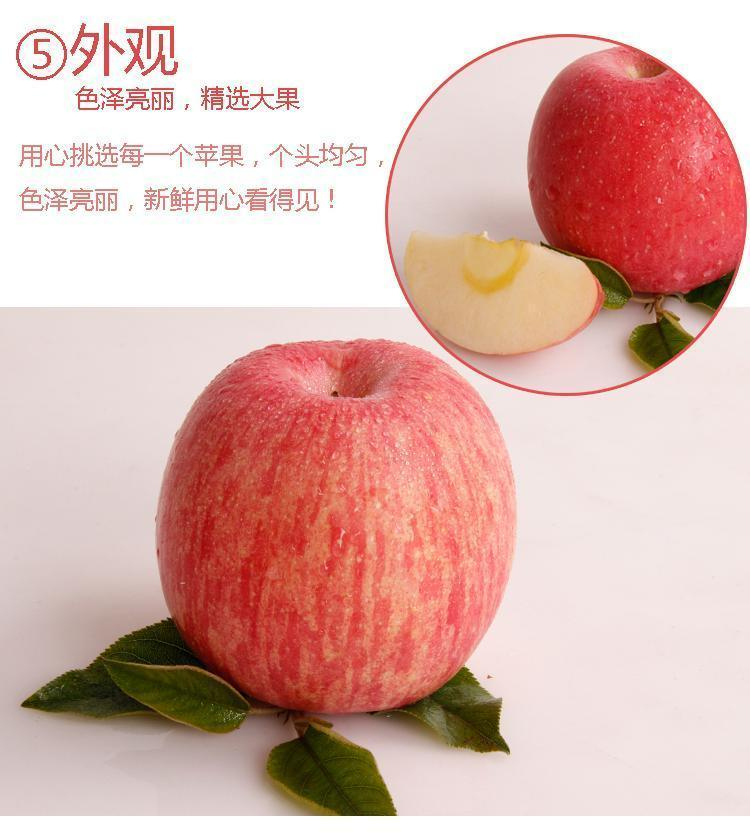apple: (148, 338, 518, 709), (515, 36, 745, 294)
